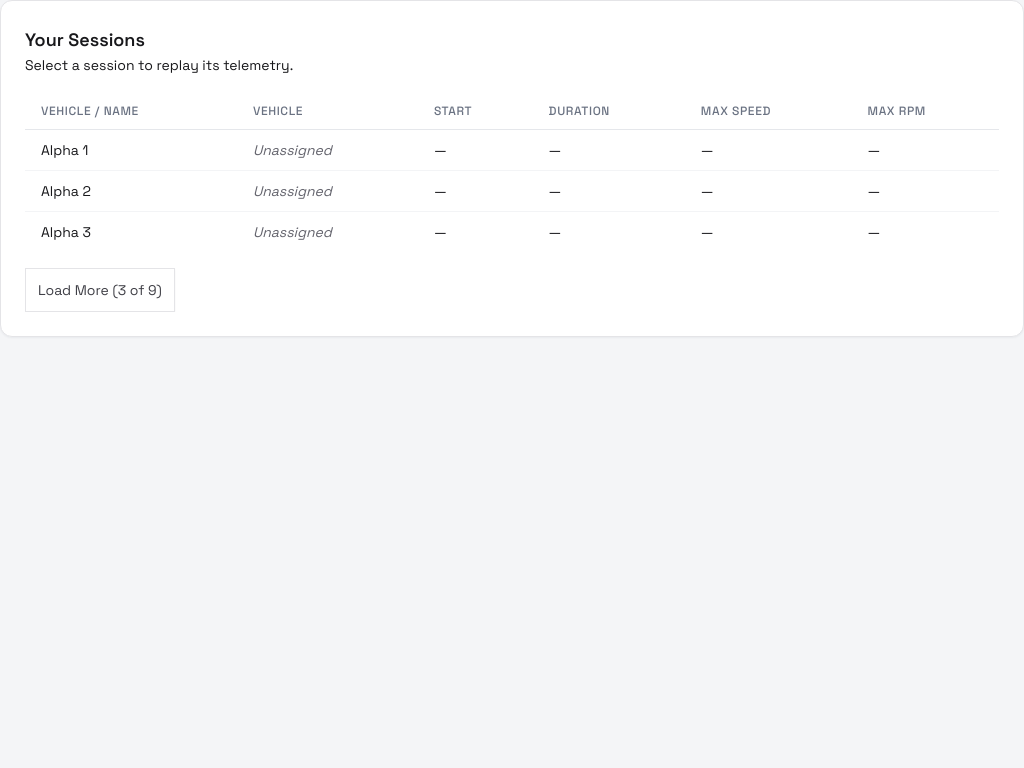
SessionBrowser pagination (jsdom) › appends pages instead of replacing rows and updates the total label
The width and height of the screenshot is (1024, 768).
Step 1. Click the button "Load More (3 of 9)" → (100, 290), box [25,268,175,312]
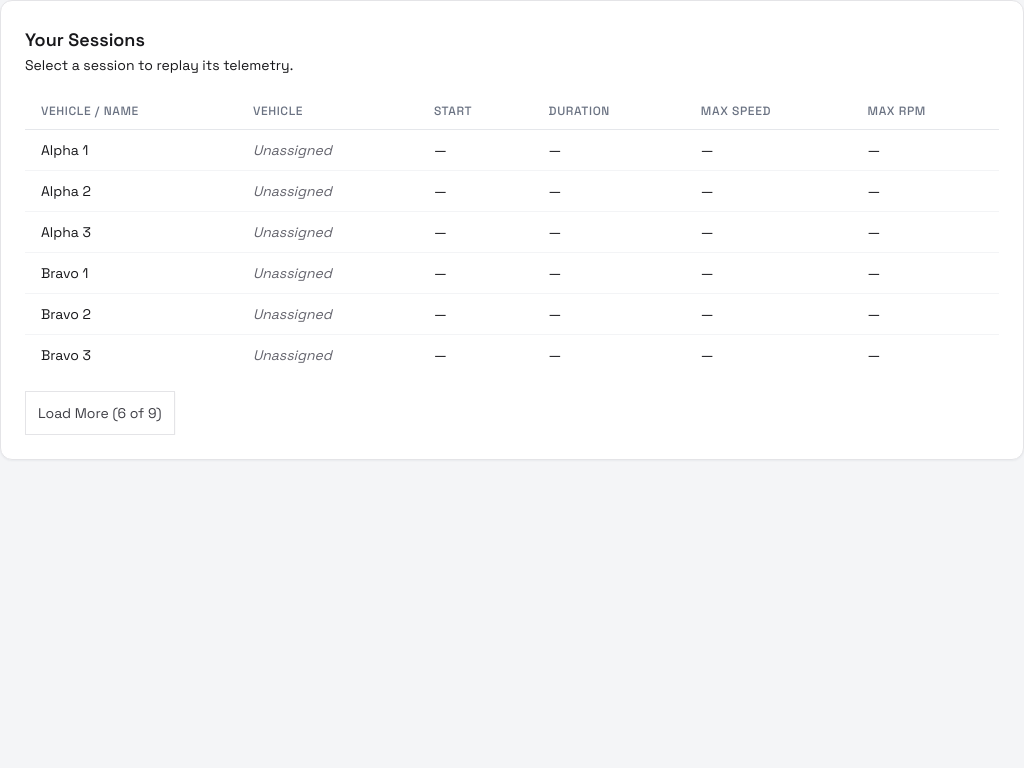
Now the button "Load More (6 of 9)" is shown
Step 2. Click the button "Load More (6 of 9)" → (100, 413), box [25,391,175,435]
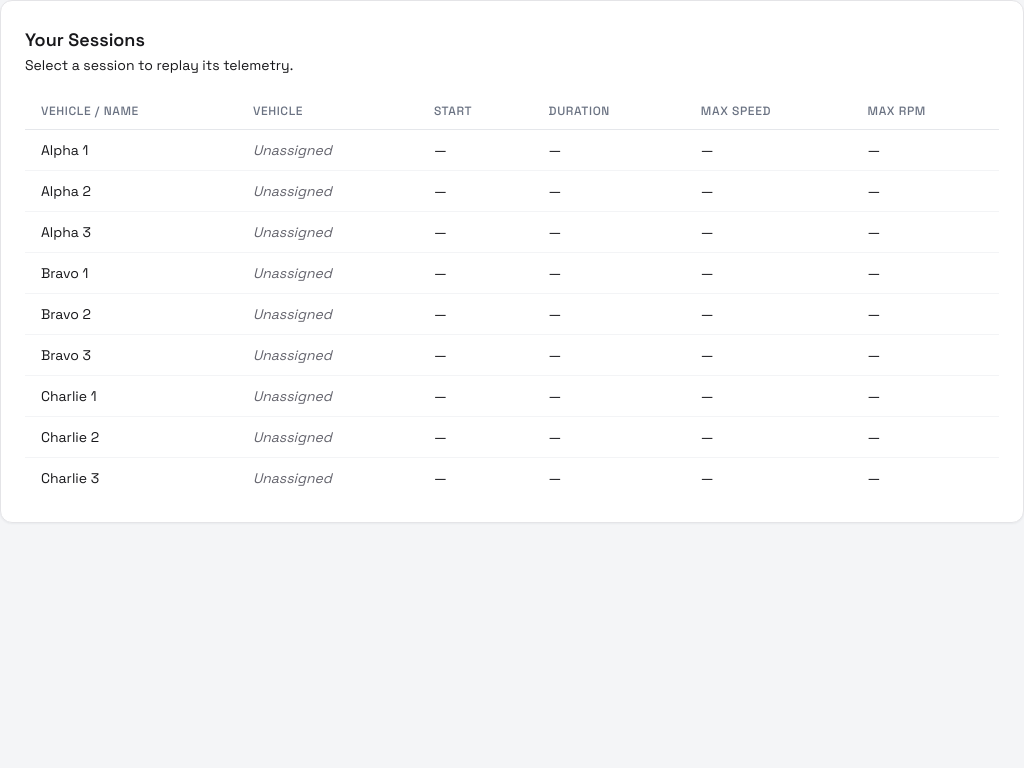
Now the element showing "Charlie 3" is shown, box [41,469,99,487]
Now the button "Load More" is gone
